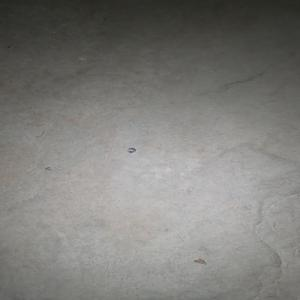Nut: (127, 148, 136, 153)
